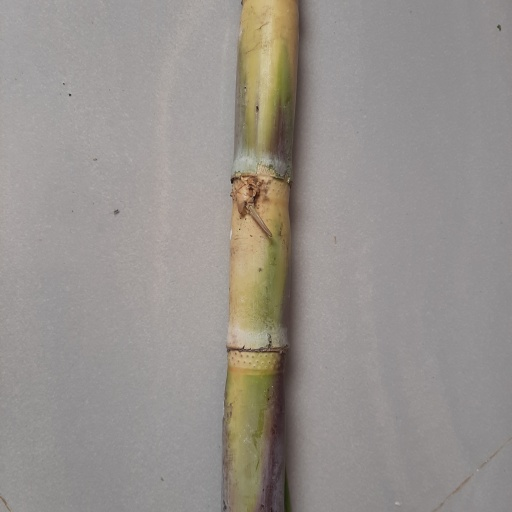Sprouted_Bud: (230, 176, 263, 225)
